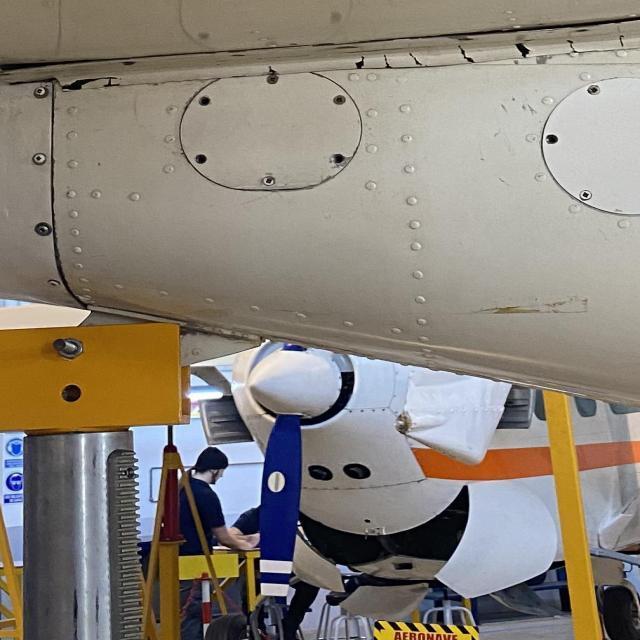Missing-head: (330, 152, 349, 166), (544, 132, 562, 144), (193, 153, 208, 166), (197, 97, 212, 107)
Paint-off: (498, 102, 512, 115), (535, 55, 549, 65), (524, 105, 538, 115), (511, 96, 518, 101)
